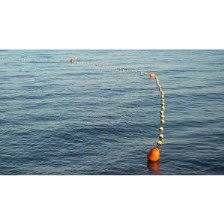buoy: (147, 148, 160, 162), (149, 71, 156, 78)
